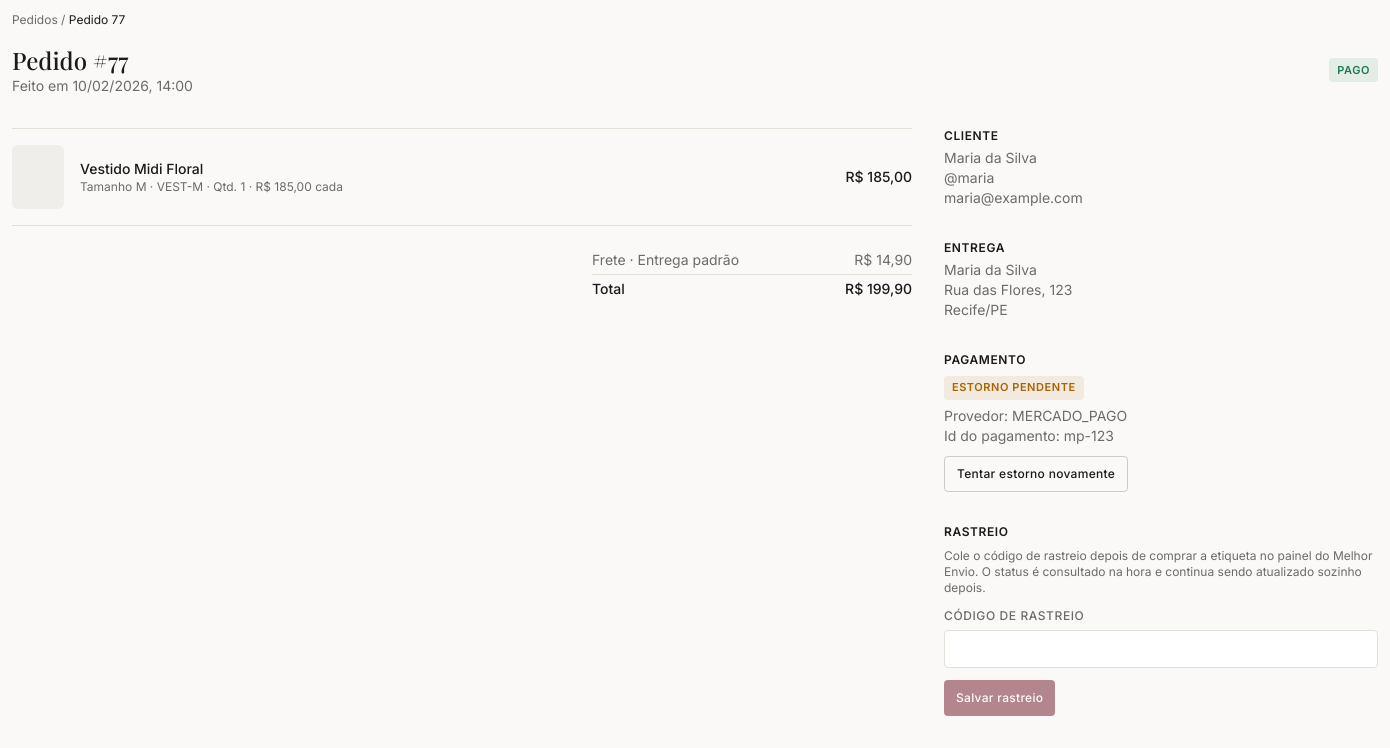
Test: AdminPedidoDetalhe › pagamento em estorno pendente mostra botão de tentar de novo
This screenshot has width=1390, height=748.
Expected: the heading "Pedido #77" is shown, [12,44,128,76]
Click the button "Tentar estorno novamente". click: (1036, 474)
box: [944,456,1128,492]
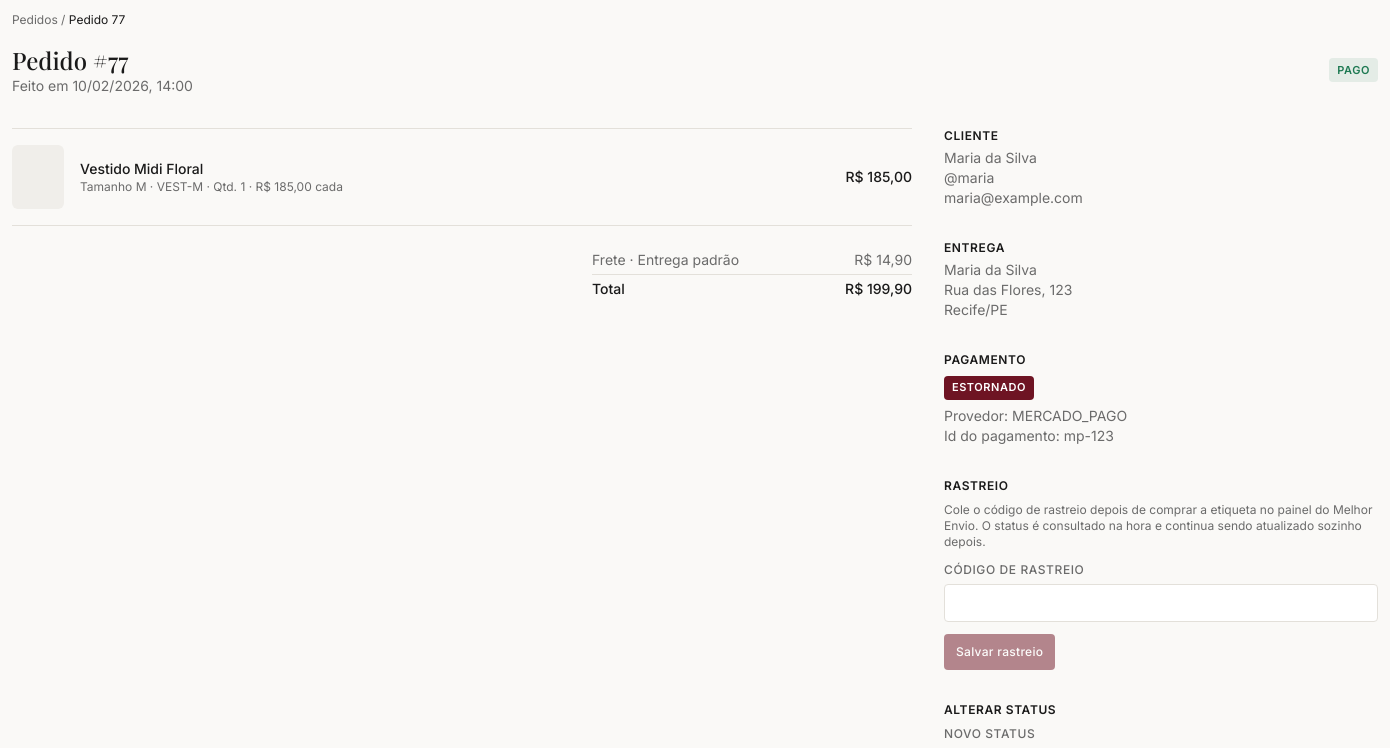
Result: the text "Estornado" is shown at [944,376,1034,400]
